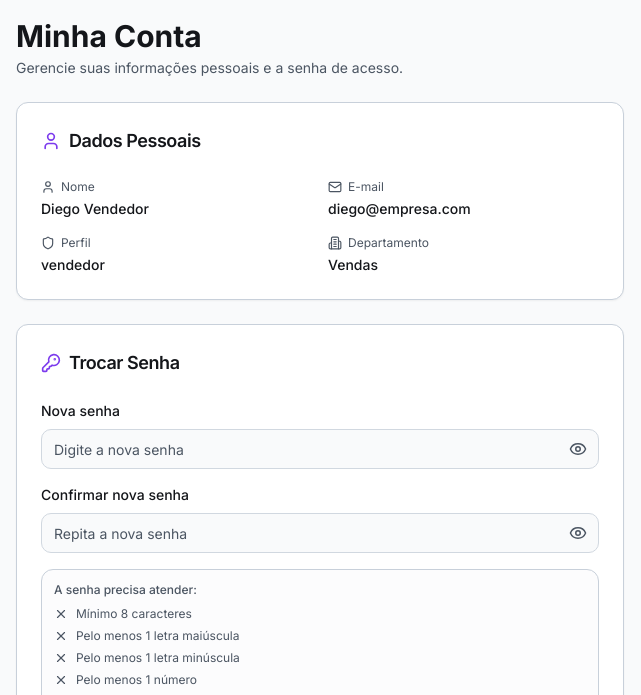
Test: MinhaConta — validação em tempo real › botão fica habilitado quando senha é forte e confirmação bate
The width and height of the screenshot is (641, 695).
In the password field labelled "Nova senha": (320, 449) [41,429,599,469], type "Senha@123"
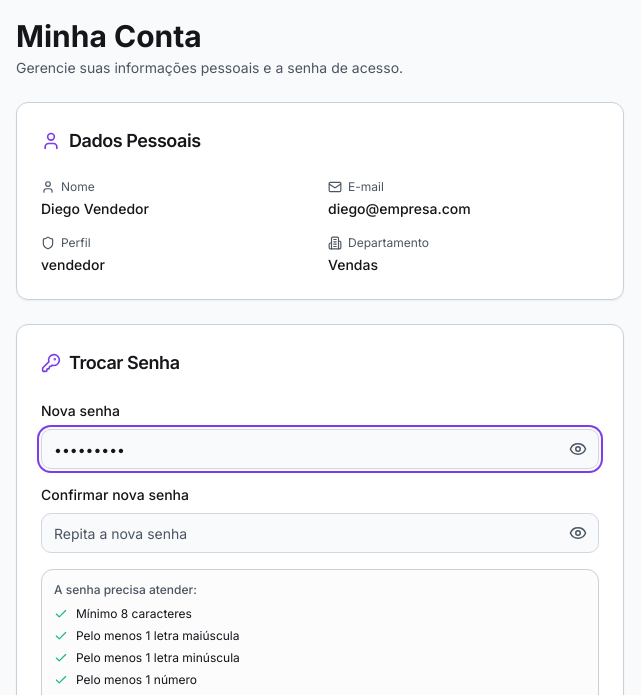
In the password field labelled "Confirmar nova senha": (320, 533) [41,513,599,553], type "Senha@123"
(page scrolled)
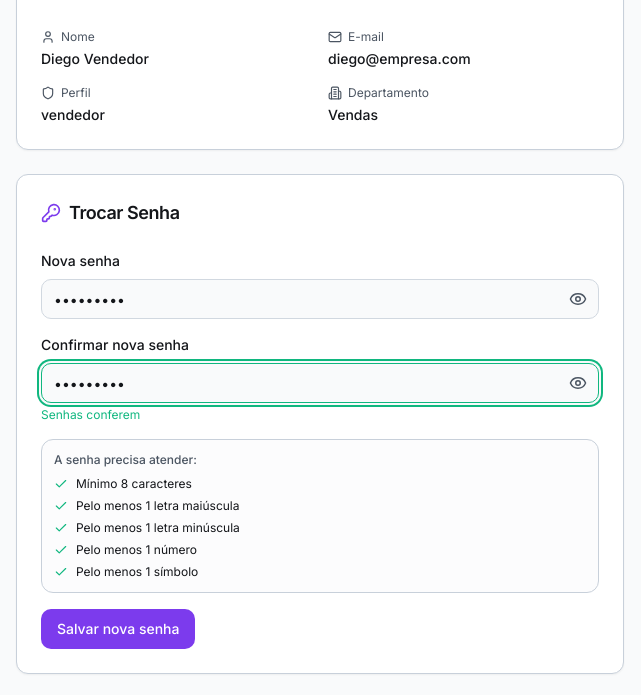
Check: the button "Salvar nova senha" is enabled, box [41,609,196,649]
